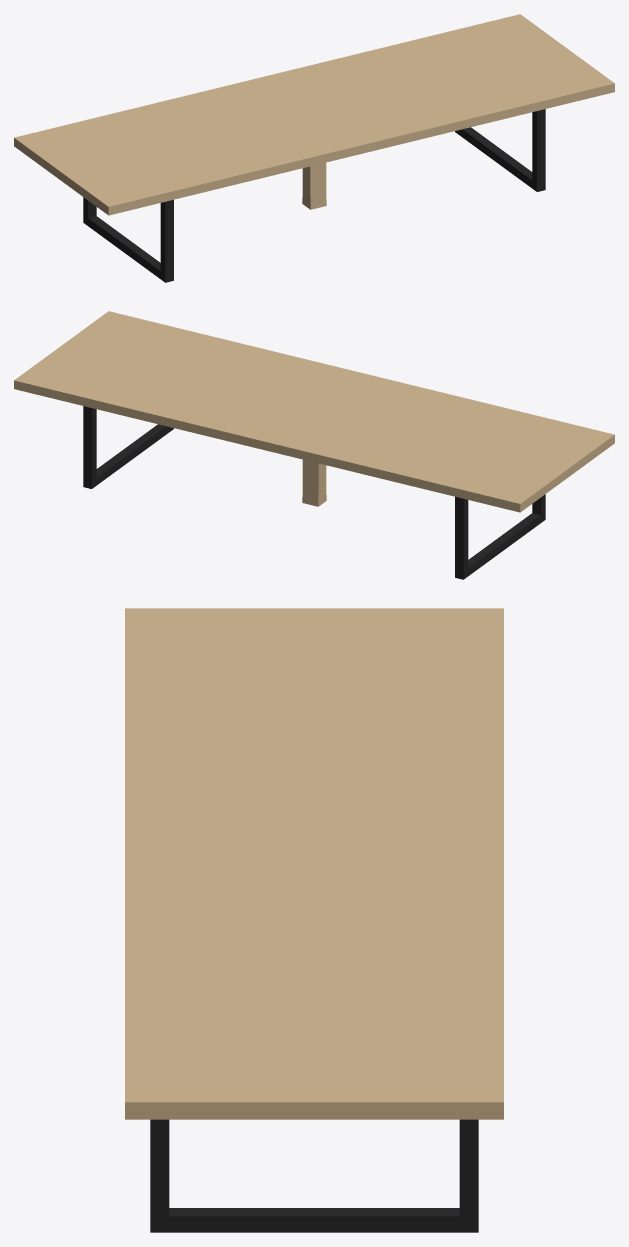
Rendered from OfficeTable.fbx.
3 views of the same model, one above another, from view 1: azimuth 30°, elevation 25°; view 2: azimuth 150°, elevation 25°; view 3: azimuth 270°, elevation 25° (orthographic). The views are drawn at different scales.
Visible parts, largest first — view 1: pCube658; view 2: pCube658; view 3: pCube658.
Boxes of the visible parts, x1=… form: pCube658: x1=14, y1=14, x2=614, y2=282; pCube658: x1=14, y1=311, x2=614, y2=579; pCube658: x1=125, y1=608, x2=503, y2=1232.
Bounding box in the file's own units: 24 × 4.34 × 7.78.
